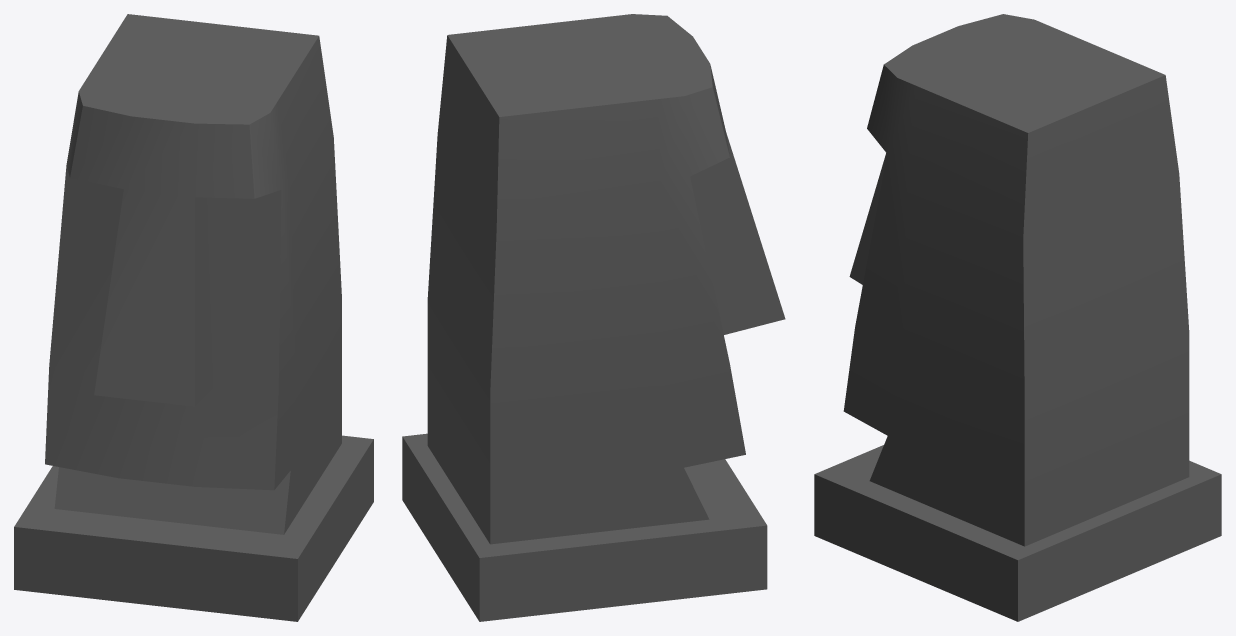
Rendered from moai.glb.
The picture shows the model from 3 angles, left to right: view 1: azimuth 30°, elevation 25°; view 2: azimuth 150°, elevation 25°; view 3: azimuth 270°, elevation 25°; orthographic projection. The views are drawn at different scales.
Visible parts, largest first — view 1: Cube.1022; view 2: Cube.1022; view 3: Cube.1022.
Boxes of the visible parts, x1,y1,x2,y2 form: Cube.1022: (14,14,373,621); Cube.1022: (402,14,785,621); Cube.1022: (814,14,1221,621).
Size of the model in its own units: 1.7 by 2.14 by 1.7.
Materials: 1 (1 with a texture image).
